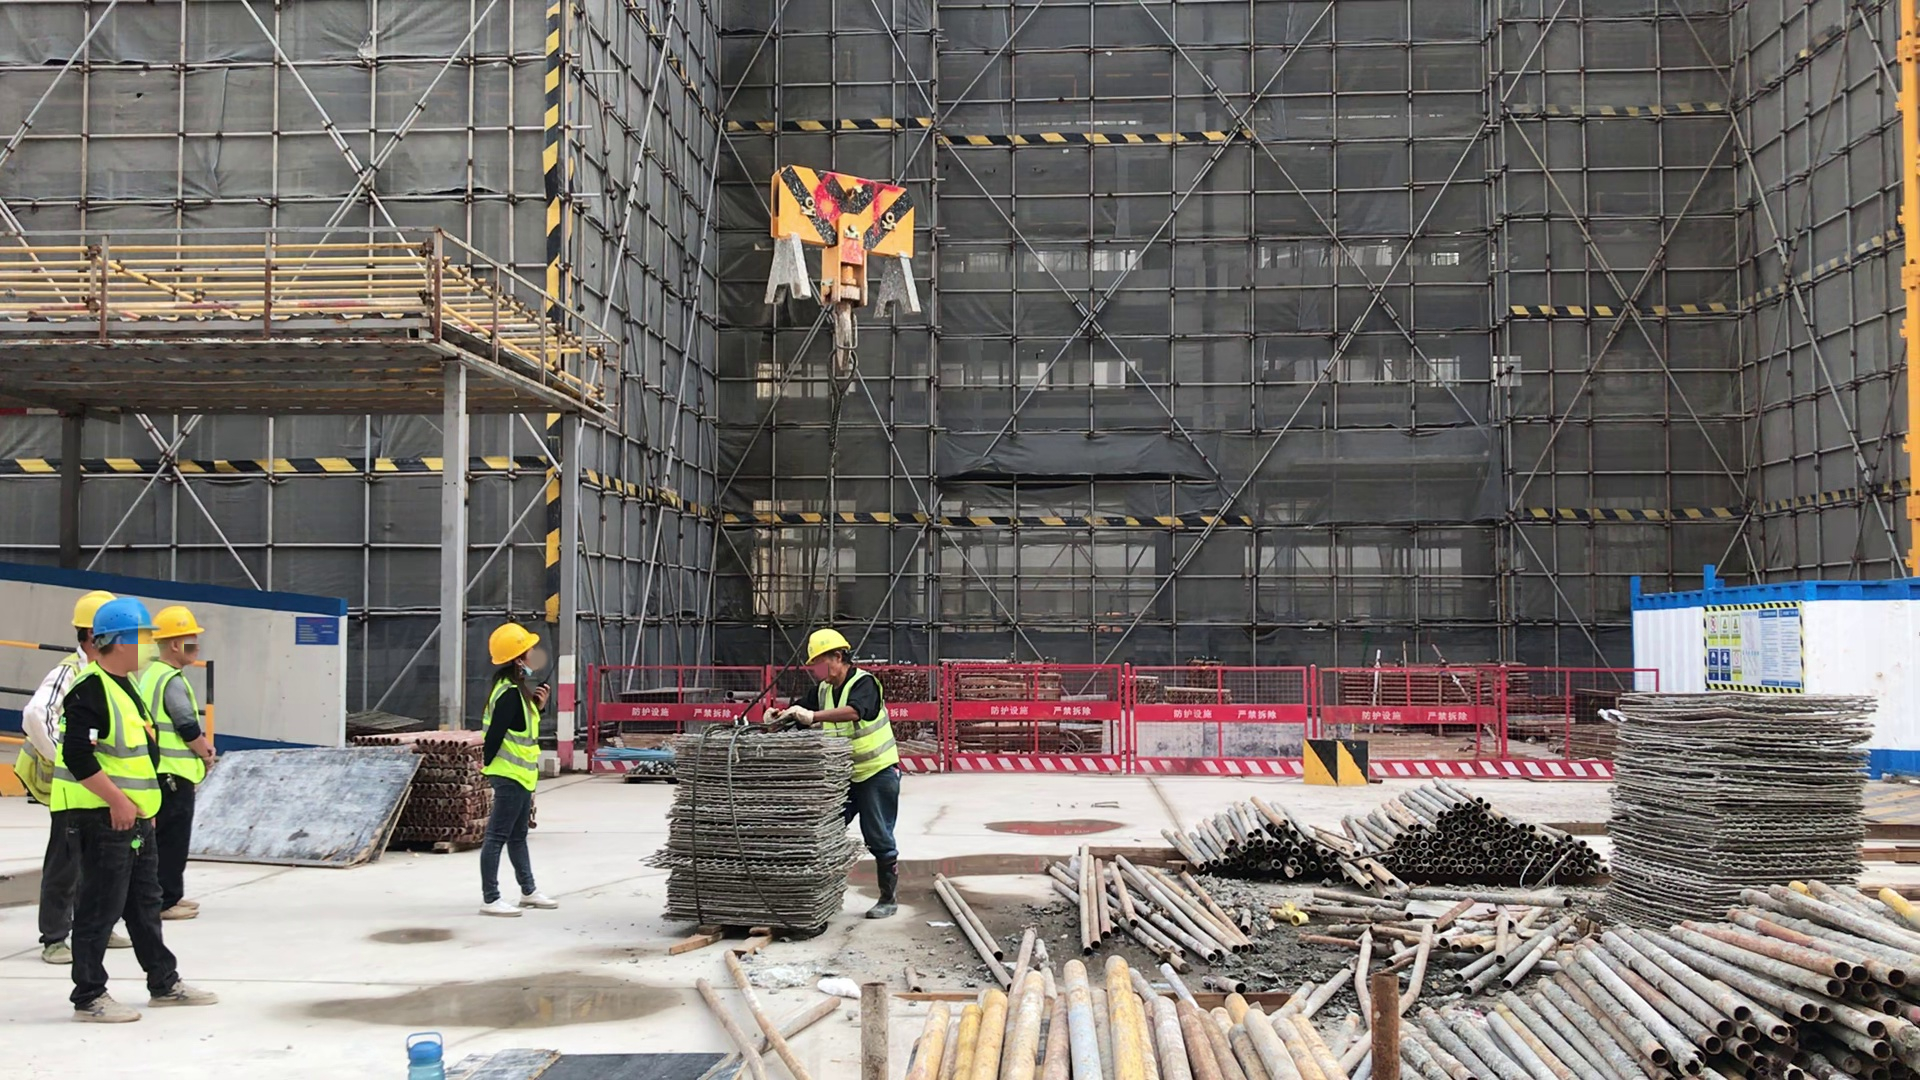helmet: (88, 592, 152, 634), (147, 600, 202, 642), (489, 619, 538, 665), (806, 629, 848, 664), (73, 589, 112, 626)
person: (50, 598, 219, 1026), (13, 590, 134, 963), (763, 628, 900, 918), (478, 625, 562, 920), (141, 604, 216, 922)
vest: (48, 662, 163, 820), (815, 676, 901, 783), (138, 662, 206, 784), (478, 676, 543, 792)
